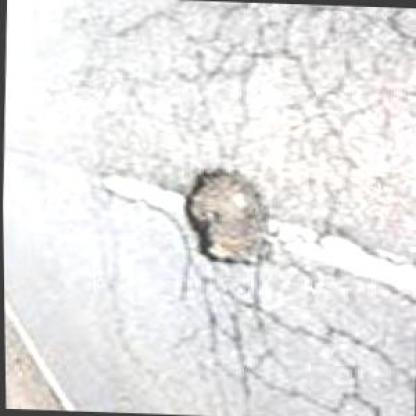pothole: (178, 165, 278, 269)
